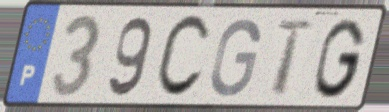3: (50, 12, 104, 100)
9: (106, 14, 154, 99)
C: (152, 12, 213, 102)
G: (312, 16, 369, 101), (207, 16, 263, 100)
T: (270, 18, 316, 99)
